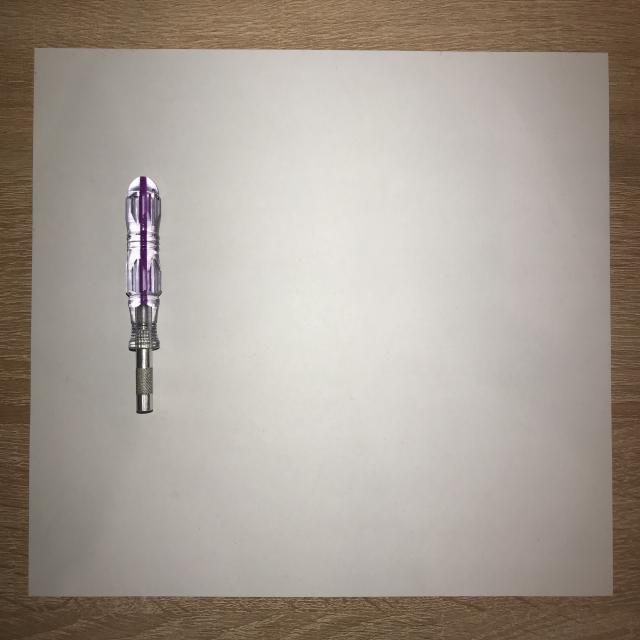screwdriver: (117, 170, 169, 422)
